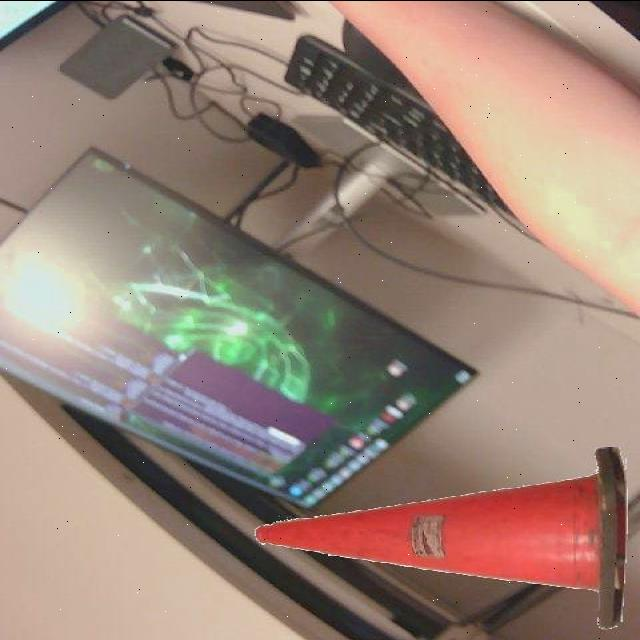traffic cone: (244, 439, 636, 636)
